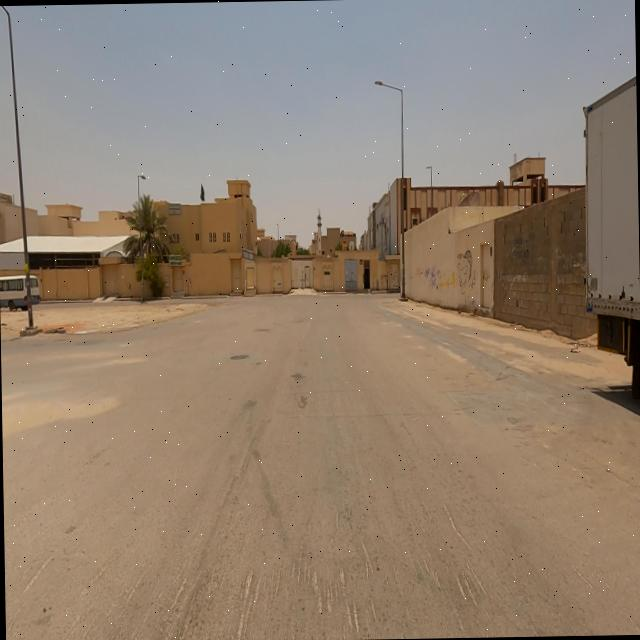Graffiti: (416, 267, 456, 295), (455, 250, 478, 297), (484, 267, 491, 287)
